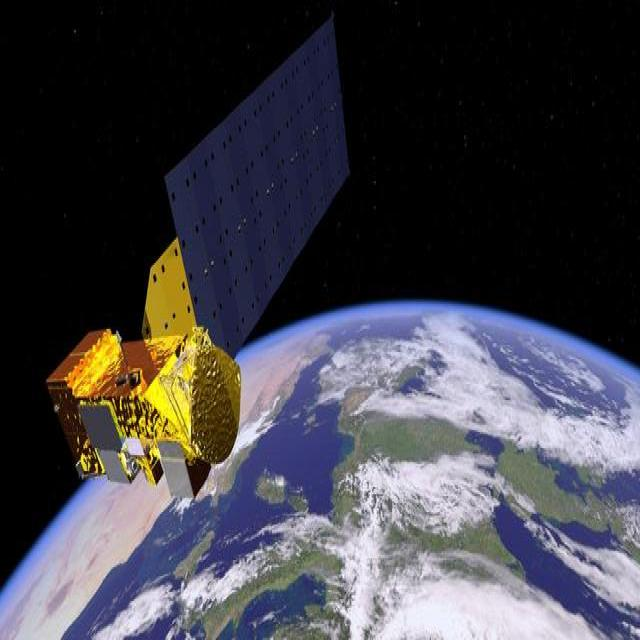medium_debris: (48, 18, 349, 497)
